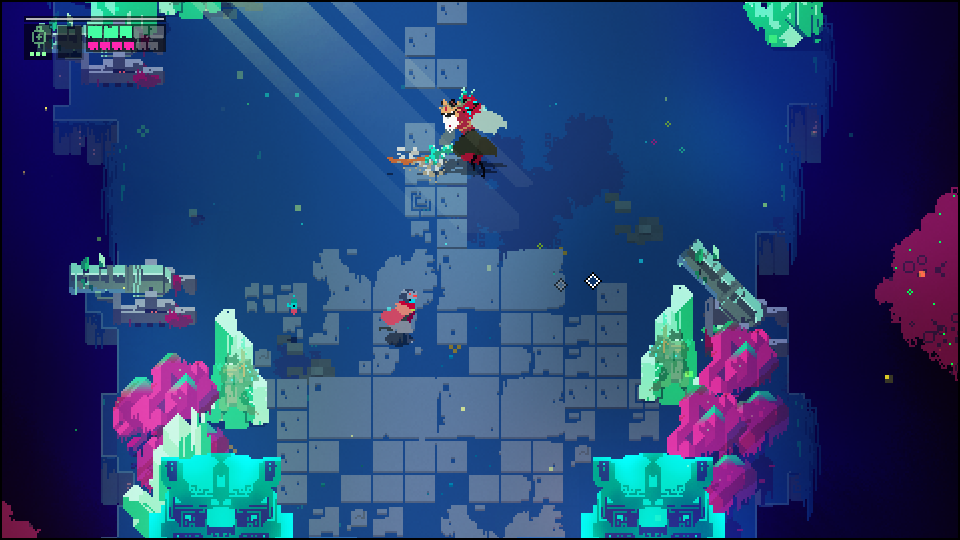hanged_man: (413, 86, 508, 179)
player: (380, 287, 417, 343)
